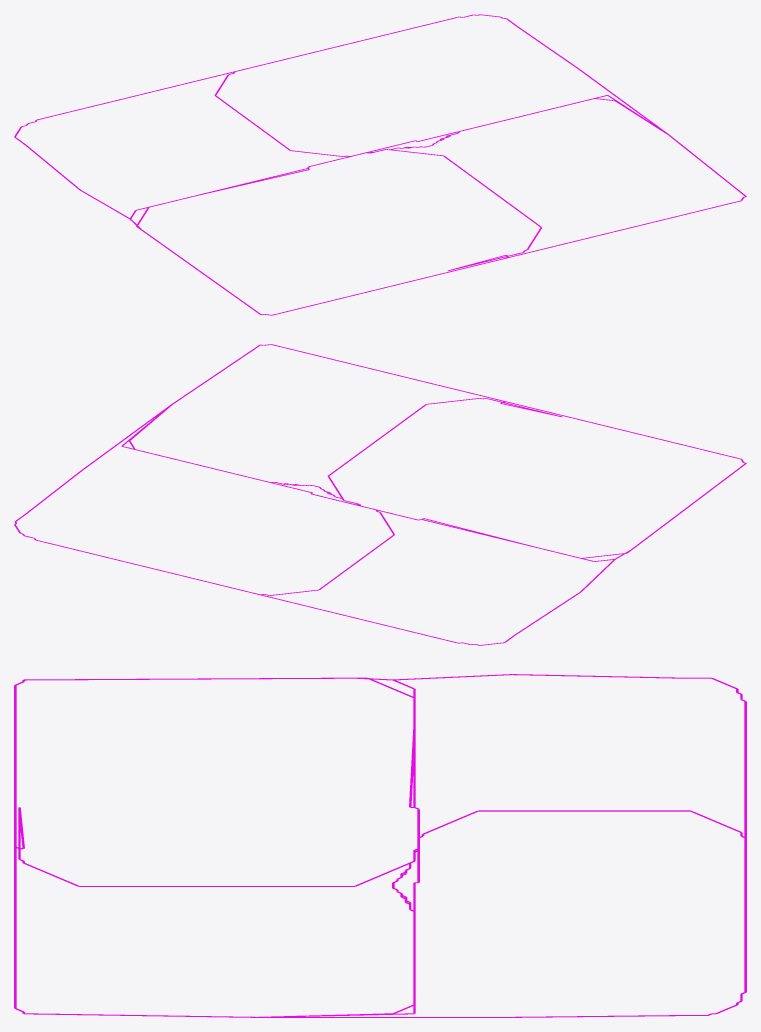
File: route_overlay_code_transform_magenta.dae
3 views of the same model, one above another, from view 1: azimuth 30°, elevation 25°; view 2: azimuth 150°, elevation 25°; view 3: azimuth 270°, elevation 25° (orthographic). The views are drawn at different scales.
Visible parts, largest first — view 1: route_preview_node; view 2: route_preview_node; view 3: route_preview_node.
Part boxes in pixels (<box>): route_preview_node: <box>14,14,746,315</box>; route_preview_node: <box>14,344,746,645</box>; route_preview_node: <box>14,674,746,1017</box>.
Bounding box in the file's own units: 4.49 × 4.05 × 0.
